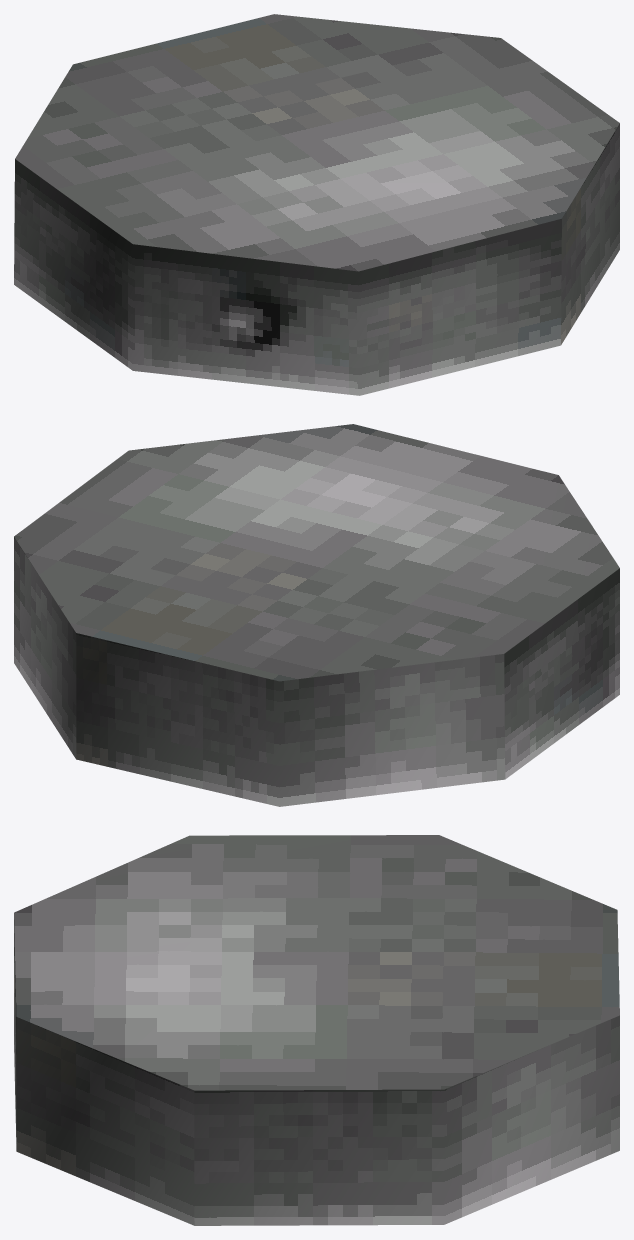
File: MINE03_ANTITANK.glb
The picture shows the model from 3 angles, top to bottom: view 1: azimuth 30°, elevation 25°; view 2: azimuth 150°, elevation 25°; view 3: azimuth 270°, elevation 25°; orthographic projection. The views are drawn at different scales.
Visible parts, largest first — view 1: MINE03_ANTITANK; view 2: MINE03_ANTITANK; view 3: MINE03_ANTITANK.
Boxes of the visible parts, x1,y1,x2,y2 form: MINE03_ANTITANK: (14, 14, 619, 395); MINE03_ANTITANK: (14, 424, 619, 806); MINE03_ANTITANK: (14, 835, 619, 1225).
Bounding box in the file's own units: 0.483 × 0.155 × 0.483.
1 material, 1 textured.
